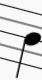B: (14, 3, 41, 79)
